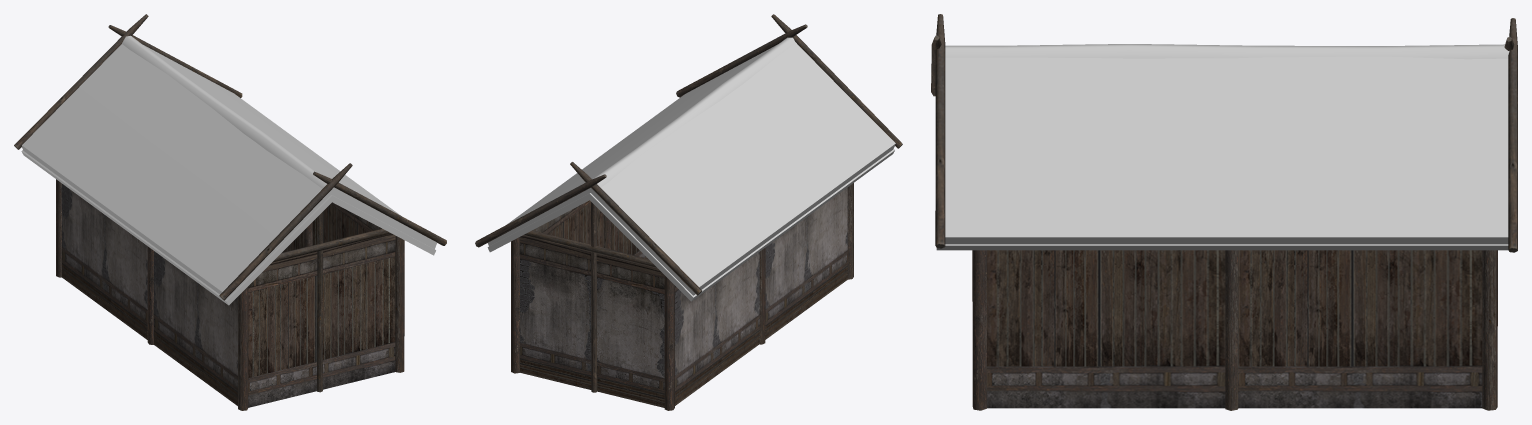
The model's file is b_zx_fangzi03_02.FBX.
3 views of the same model, side by side, from view 1: azimuth 30°, elevation 25°; view 2: azimuth 150°, elevation 25°; view 3: azimuth 270°, elevation 25° (orthographic). The views are drawn at different scales.
Parts seen in each view (by area): view 1: b_zx_fangzi03_03, b_zx_fangzi03_01, b_zx_fangzi03_02; view 2: b_zx_fangzi03_03, b_zx_fangzi03_01, b_zx_fangzi03_02; view 3: b_zx_fangzi03_01, b_zx_fangzi03_03, b_zx_fangzi03_02.
Part boxes in pixels (x1,y1,x2,y2): b_zx_fangzi03_03: (14,14,446,410); b_zx_fangzi03_01: (22,35,436,299); b_zx_fangzi03_02: (21,150,435,305); b_zx_fangzi03_03: (475,14,902,410); b_zx_fangzi03_01: (488,37,895,295); b_zx_fangzi03_02: (487,149,894,301); b_zx_fangzi03_01: (945,44,1509,244); b_zx_fangzi03_03: (931,14,1517,410); b_zx_fangzi03_02: (936,244,1508,250).
Bounding box in the file's own units: 7.3 × 7.15 × 11.59.
